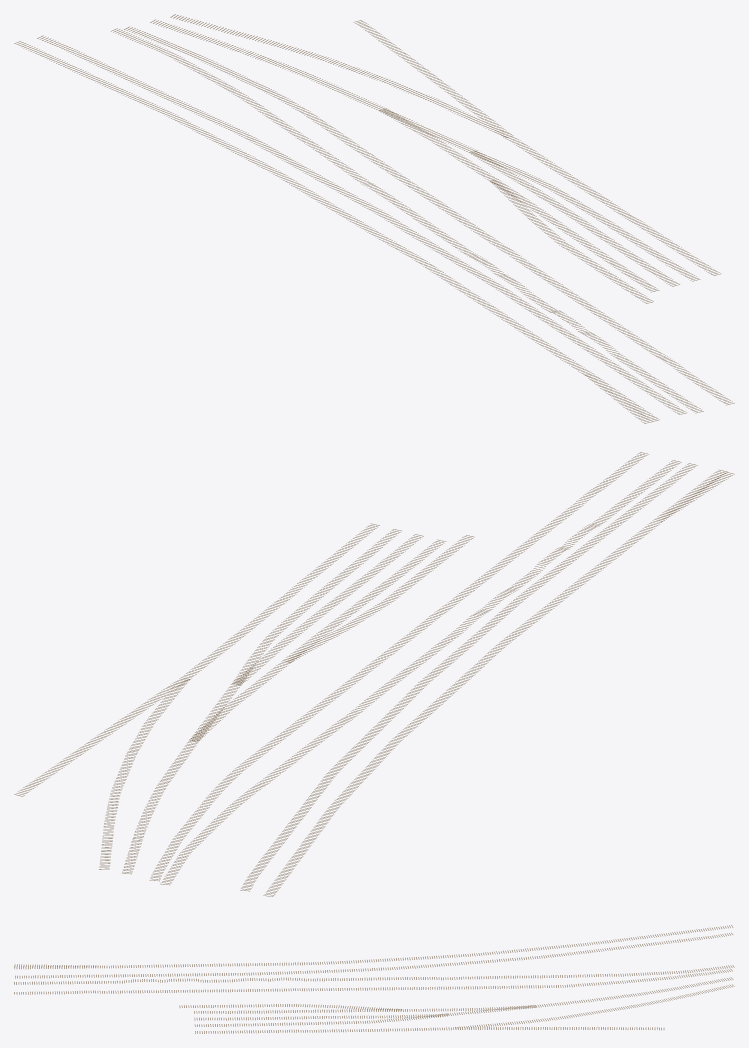
File: c_1632_17826_rail_sleeper.glb
3 views of the same model, one above another, from view 1: azimuth 30°, elevation 25°; view 2: azimuth 150°, elevation 25°; view 3: azimuth 270°, elevation 25° (orthographic). The views are drawn at different scales.
Parts seen in each view (by area): view 1: geometry_0; view 2: geometry_0; view 3: geometry_0.
Part boxes in pixels (x1=…): geometry_0: x1=14, y1=14, x2=734, y2=423; geometry_0: x1=14, y1=452, x2=734, y2=896; geometry_0: x1=14, y1=925, x2=734, y2=1033.
Bounding box in the file's own units: 84.68 × 3.69 × 256.
